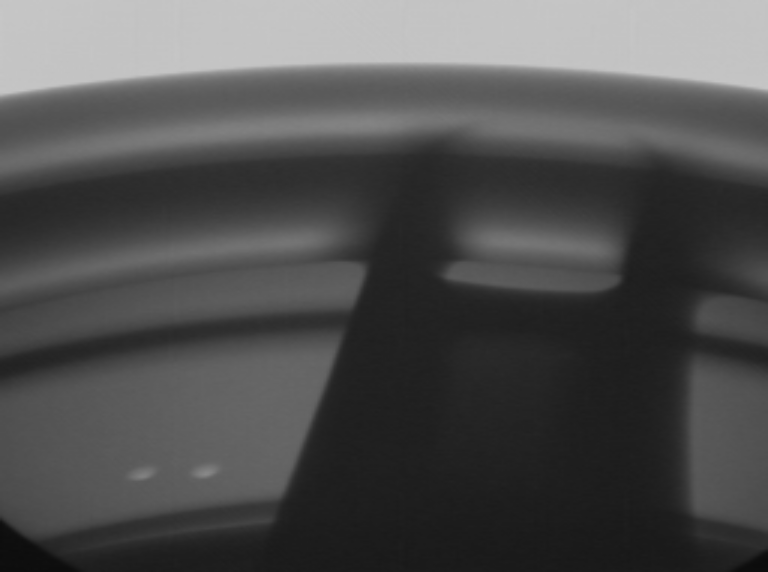defect: (192, 451, 231, 489)
